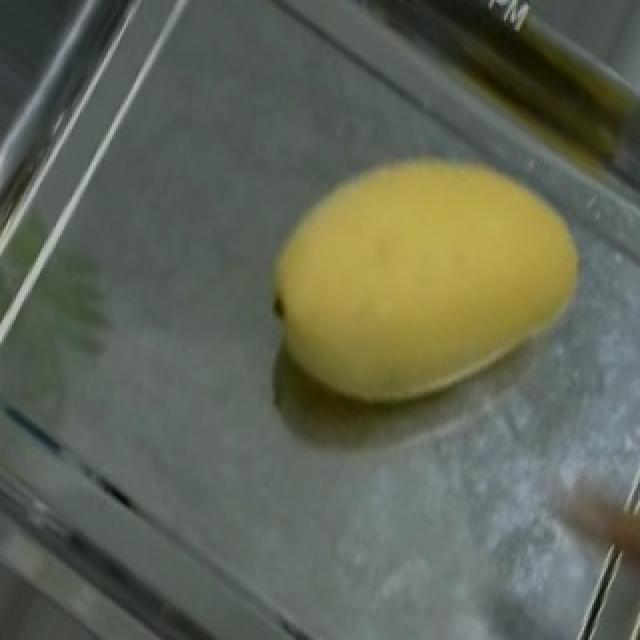fruit: (224, 84, 626, 459)
